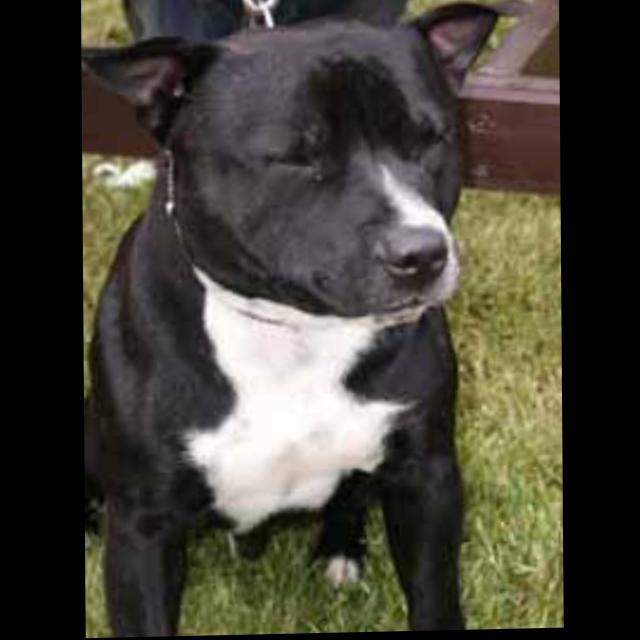staffford: (82, 1, 514, 640)
